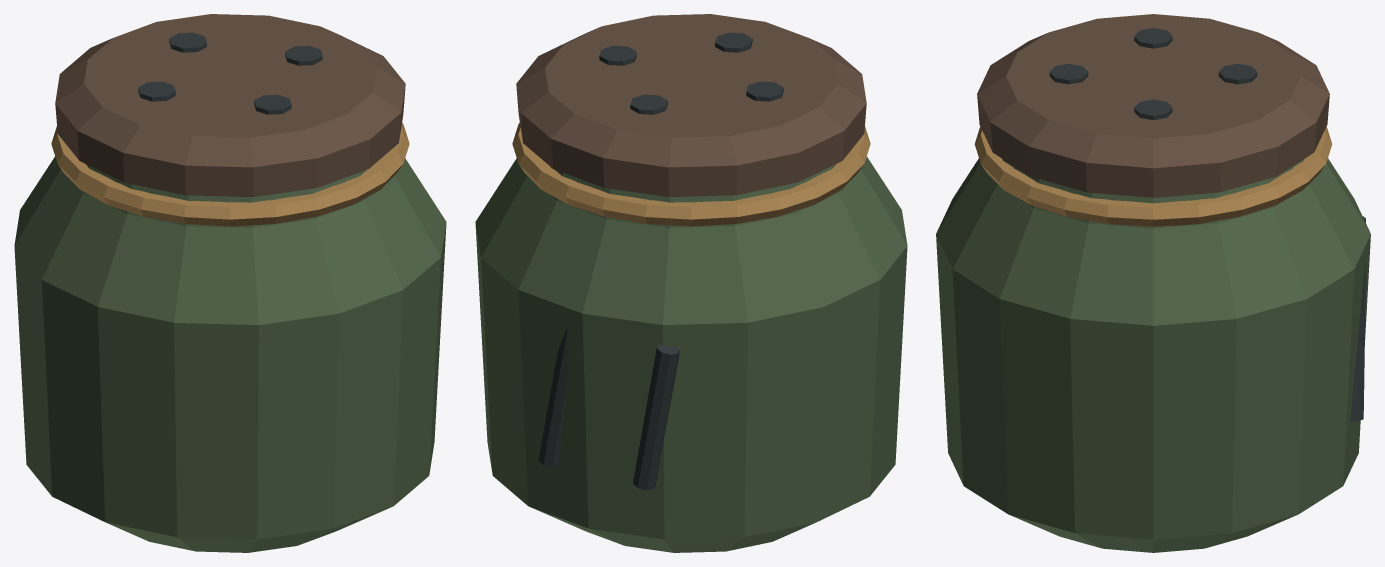
Rendered from AE_Item_LeechJar.fbx.
3 renders of one model, left to right at view 1: azimuth 30°, elevation 25°; view 2: azimuth 150°, elevation 25°; view 3: azimuth 270°, elevation 25°, orthographic.
Visible parts, largest first — view 1: AE_Item_LeechJar; view 2: AE_Item_LeechJar; view 3: AE_Item_LeechJar.
Part boxes in pixels (x1=…): AE_Item_LeechJar: x1=14, y1=14, x2=446, y2=552; AE_Item_LeechJar: x1=475, y1=14, x2=907, y2=552; AE_Item_LeechJar: x1=936, y1=14, x2=1370, y2=552.
Size of the model in its own units: 0.18 by 0.194 by 0.18.
